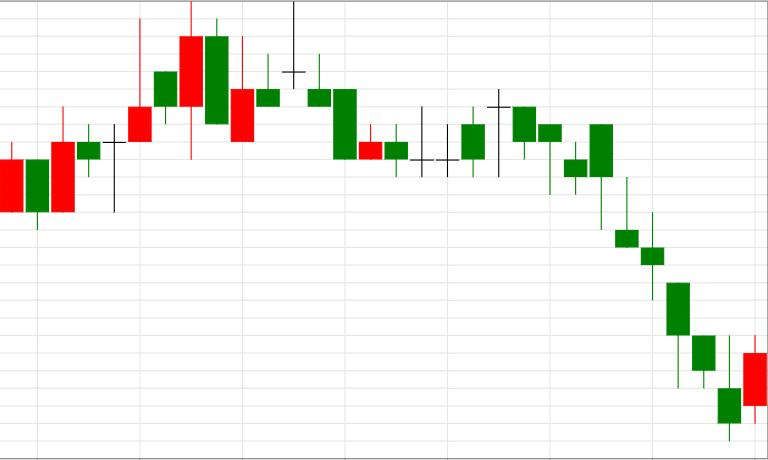inverse_hammer_rise: (564, 124, 741, 441)
